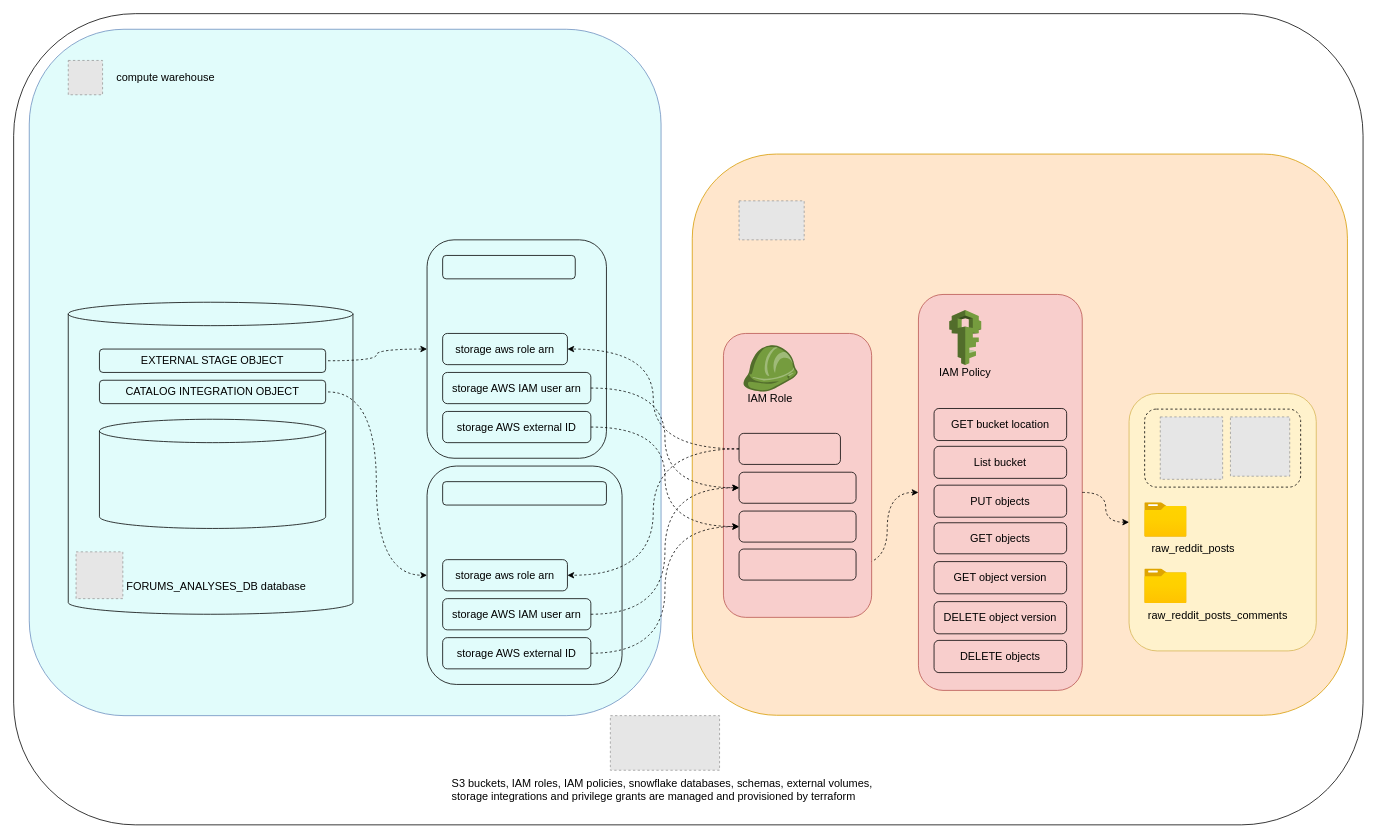
This 1377x838 diagram has some shape labels left out. Grey dashed boxes stand in for pictures. Each missing label, with the centre of its shape:
external ID: (797,526)
EXTERNAL VOLUME: (508,267)
FORUMS_ANALYSES_BRONZE schema: (212,473)
IAM Role ARN: (789,448)
permission policies: (797,564)
principal AWS user: (797,487)
STORAGE INTEGRATION: (524,493)
